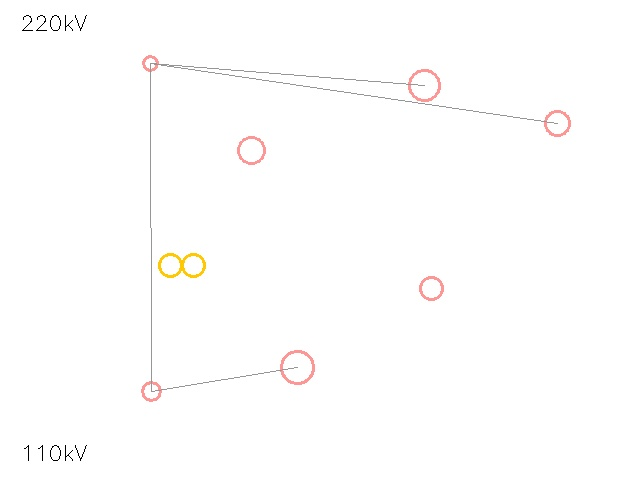current_transformer: (225, 124, 277, 176)
fuse: (393, 54, 455, 116), (408, 265, 454, 311), (135, 48, 165, 78)
surge_arrester: (133, 373, 169, 409)
transformer_2w: (154, 237, 210, 293)
voltage_transformer: (265, 335, 329, 399), (533, 99, 581, 147)
